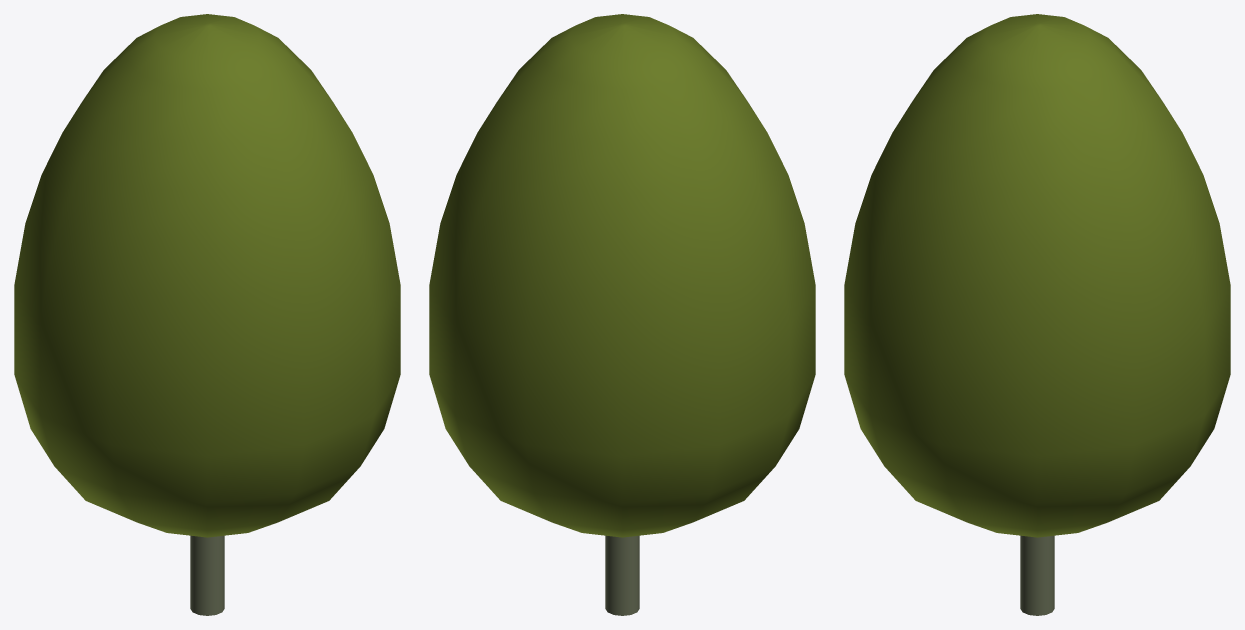
Rendered from Conker_Tree_Analytical_0.obj.
3 renders of one model, left to right at view 1: azimuth 30°, elevation 25°; view 2: azimuth 150°, elevation 25°; view 3: azimuth 270°, elevation 25°, orthographic.
Visible parts, largest first — view 1: AnalyticalCrown, AnalyticalTrunk; view 2: AnalyticalCrown, AnalyticalTrunk; view 3: AnalyticalCrown, AnalyticalTrunk.
Boxes of the visible parts, <box> form: AnalyticalCrown: <box>14,14,400,537</box>; AnalyticalTrunk: <box>190,535,224,615</box>; AnalyticalCrown: <box>429,14,815,537</box>; AnalyticalTrunk: <box>605,535,639,615</box>; AnalyticalCrown: <box>844,14,1230,537</box>; AnalyticalTrunk: <box>1020,535,1054,615</box>.
Size of the model in its own units: 18 by 30 by 18.
